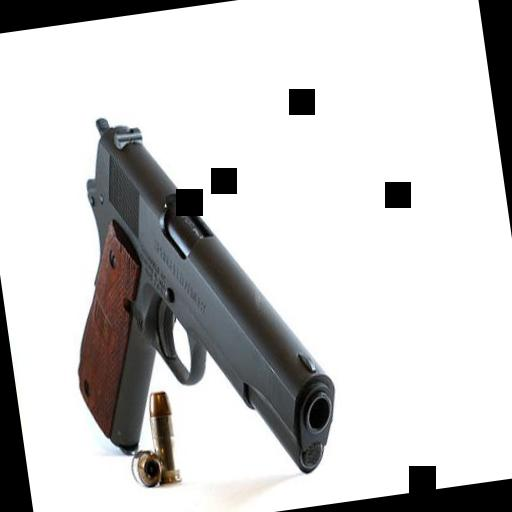Handgun: (41, 91, 343, 502)
